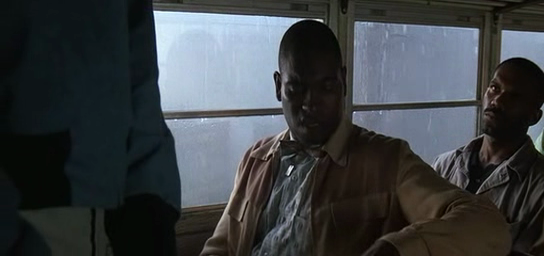face: (283, 62, 343, 145), (478, 77, 519, 137)
mcu: (1, 1, 544, 256)
person: (197, 19, 512, 256), (430, 57, 544, 256)
